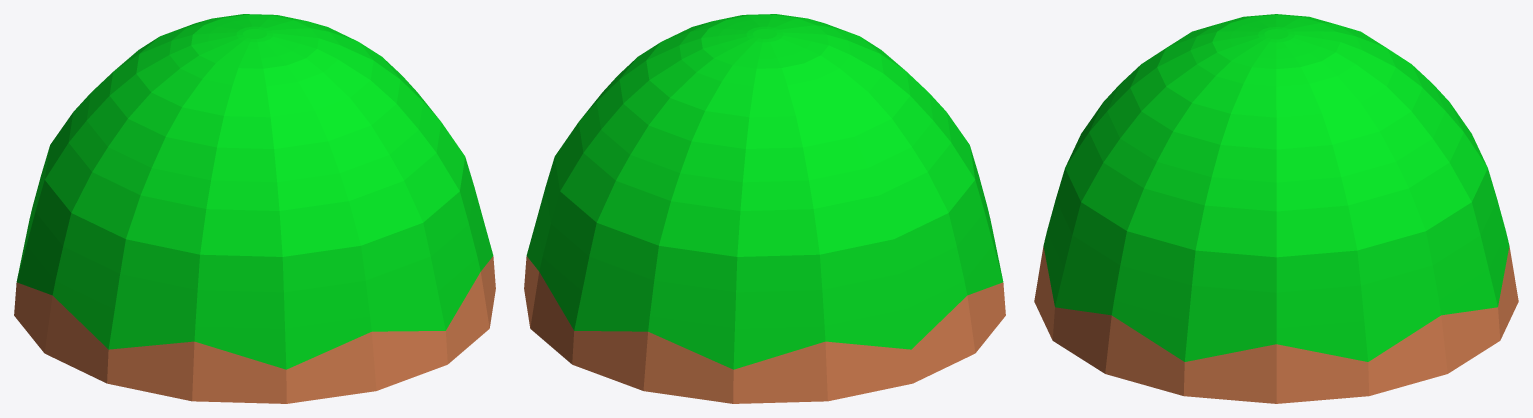
The model's file is Hill01.fbx.
The picture shows the model from 3 angles, left to right: view 1: azimuth 30°, elevation 25°; view 2: azimuth 150°, elevation 25°; view 3: azimuth 270°, elevation 25°; orthographic projection.
Visible parts, largest first — view 1: Circle.024; view 2: Circle.024; view 3: Circle.024.
Boxes of the visible parts, x1,y1,x2,y2 form: Circle.024: [14, 14, 495, 403]; Circle.024: [524, 14, 1005, 403]; Circle.024: [1034, 14, 1518, 403].
Bounding box in the file's own units: 3212 × 1956 × 3212.
